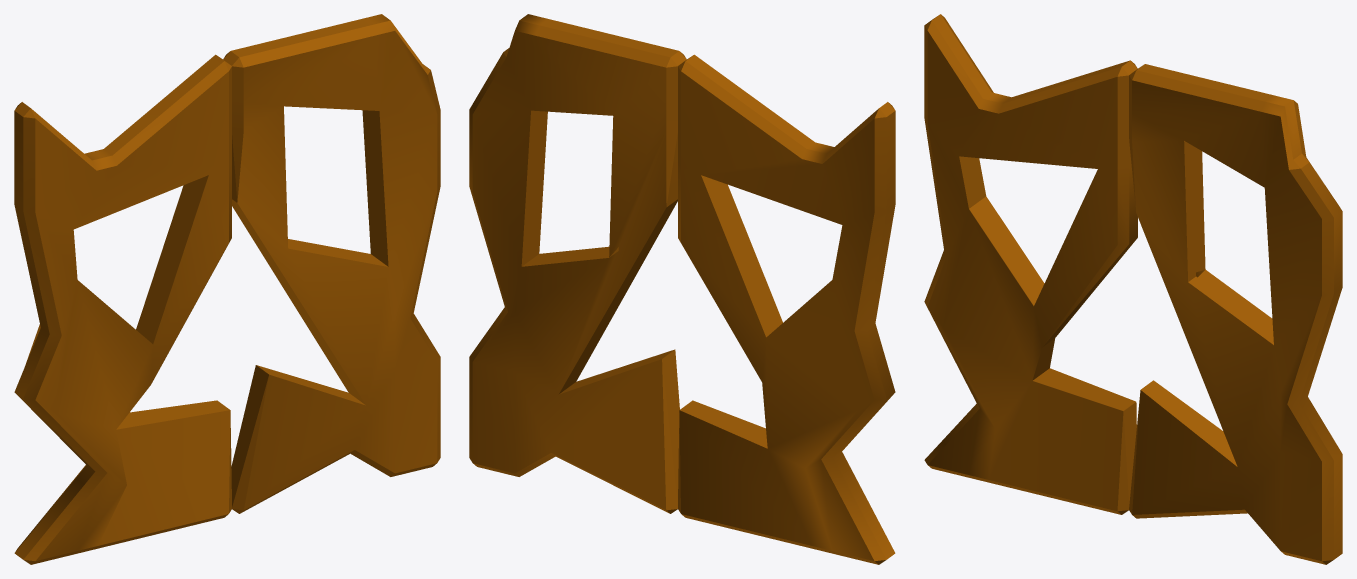
Rendered from door2.fbx.
3 renders of one model, left to right at view 1: azimuth 30°, elevation 25°; view 2: azimuth 150°, elevation 25°; view 3: azimuth 330°, elevation 25°, orthographic.
Parts seen in each view (by area): view 1: left_door, right_door; view 2: right_door, left_door; view 3: right_door, left_door.
Part boxes in pixels (x1,y1,x2,y2): left_door: (14, 54, 231, 564); right_door: (223, 14, 440, 513); right_door: (469, 14, 686, 513); left_door: (678, 54, 895, 564); right_door: (1129, 64, 1342, 564); left_door: (924, 14, 1137, 514).
Size of the model in its own units: 4.89 by 5.12 by 0.8709.
